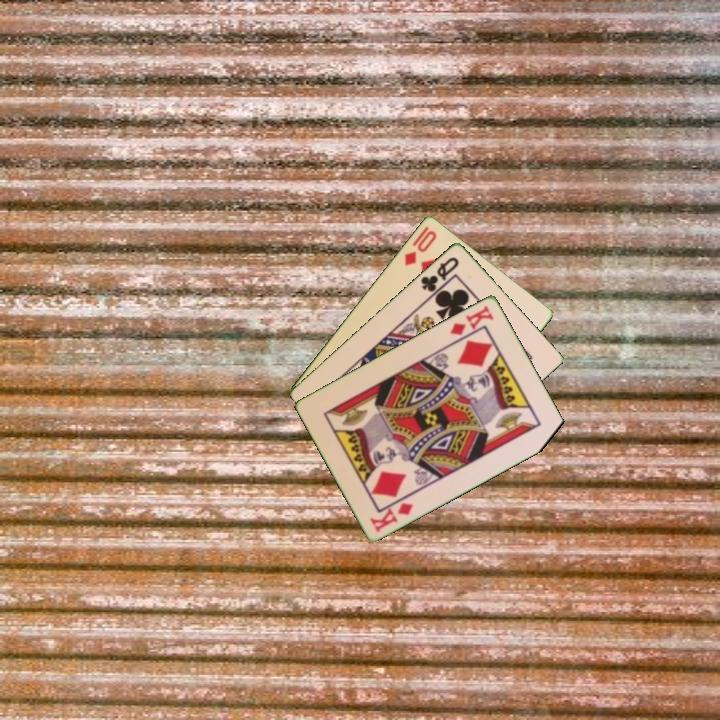10d: (401, 222, 439, 269)
Kd: (446, 301, 497, 338), (367, 499, 417, 535)
Qc: (417, 253, 462, 294)
